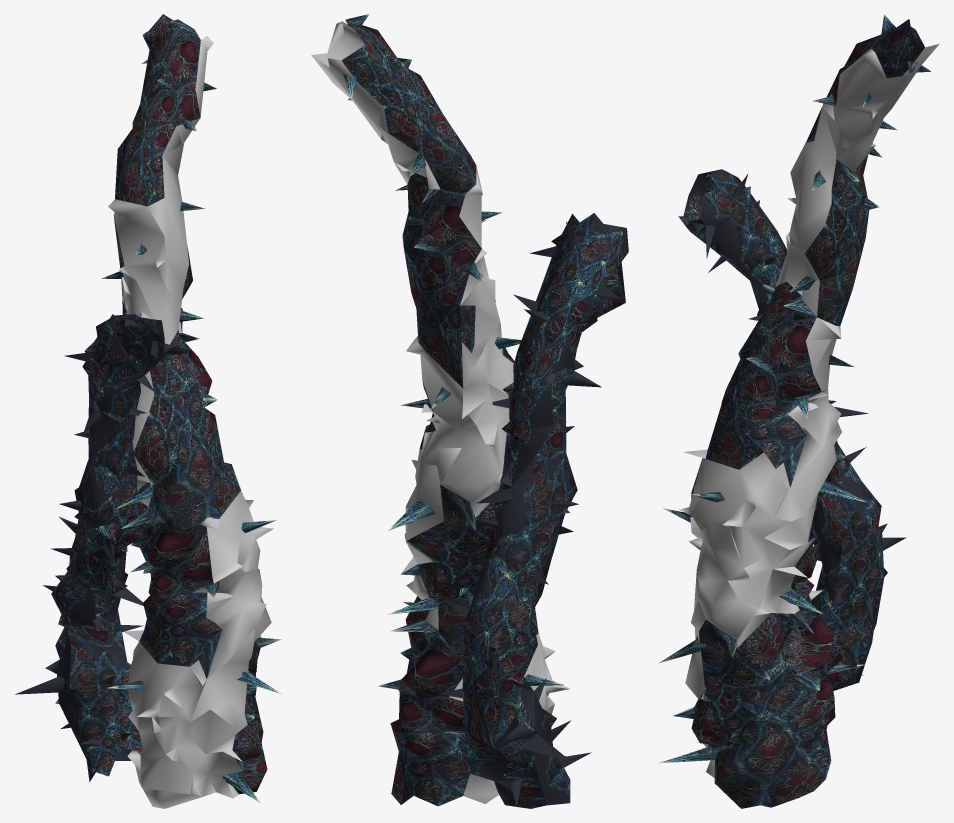
Rendered from 02_05_Makaizyu.fbx.
3 views of the same model, side by side, from view 1: azimuth 30°, elevation 25°; view 2: azimuth 150°, elevation 25°; view 3: azimuth 270°, elevation 25° (orthographic). The views are drawn at different scales.
Parts seen in each view (by area): view 1: LODGroup_3_MainMesh_1_SubMesh_2, LODGroup_3_MainMesh_1_SubMesh_3, LODGroup_3_MainMesh_1_SubMesh_1; view 2: LODGroup_3_MainMesh_1_SubMesh_1, LODGroup_3_MainMesh_1_SubMesh_2, LODGroup_3_MainMesh_1_SubMesh_3; view 3: LODGroup_3_MainMesh_1_SubMesh_2, LODGroup_3_MainMesh_1_SubMesh_3, LODGroup_3_MainMesh_1_SubMesh_1.
Part boxes in pixels (bbox=[...]): LODGroup_3_MainMesh_1_SubMesh_2: bbox=[101, 14, 281, 803]; LODGroup_3_MainMesh_1_SubMesh_3: bbox=[108, 36, 273, 808]; LODGroup_3_MainMesh_1_SubMesh_1: bbox=[15, 296, 193, 781]; LODGroup_3_MainMesh_1_SubMesh_1: bbox=[436, 213, 628, 808]; LODGroup_3_MainMesh_1_SubMesh_2: bbox=[341, 14, 564, 806]; LODGroup_3_MainMesh_1_SubMesh_3: bbox=[311, 21, 569, 803]; LODGroup_3_MainMesh_1_SubMesh_2: bbox=[658, 14, 930, 808]; LODGroup_3_MainMesh_1_SubMesh_3: bbox=[674, 44, 939, 777]; LODGroup_3_MainMesh_1_SubMesh_1: bbox=[678, 169, 905, 690].
Bounding box in the file's own units: 574 × 1911 × 625.
